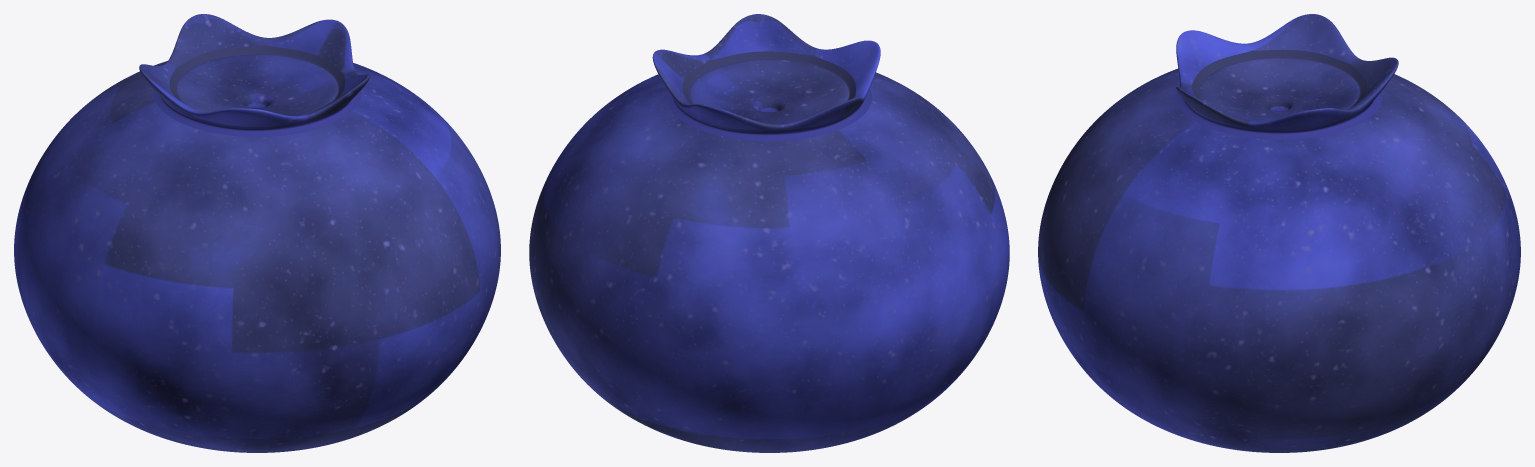
3 renders of one model, left to right at view 1: azimuth 30°, elevation 25°; view 2: azimuth 150°, elevation 25°; view 3: azimuth 270°, elevation 25°, orthographic.
Visible parts, largest first — view 1: 球体; view 2: 球体; view 3: 球体.
Part boxes in pixels (x1,y1,x2,y2): 球体: (14,14,500,452); 球体: (529,14,1009,452); 球体: (1038,14,1520,452).
Bounding box in the file's own units: 1.8 × 1.46 × 1.81.
Materials: 1 (1 with a texture image).
